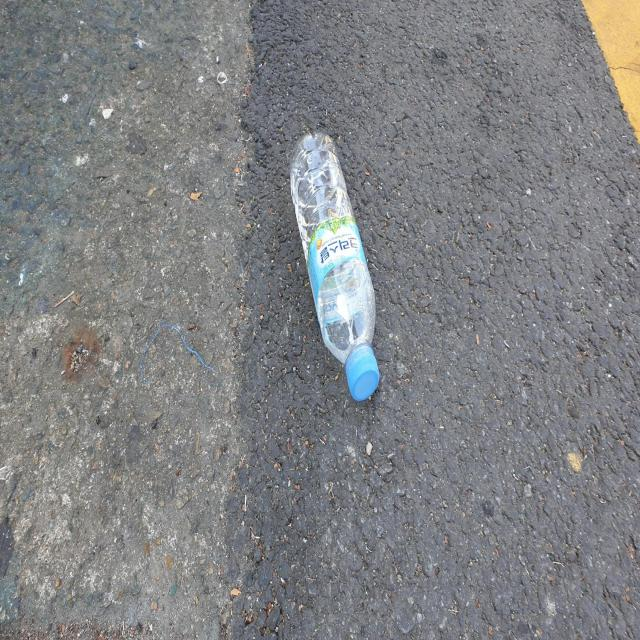plastic: (290, 132, 380, 400)
